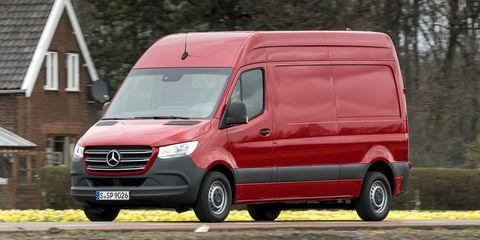van: (70, 29, 412, 223)
